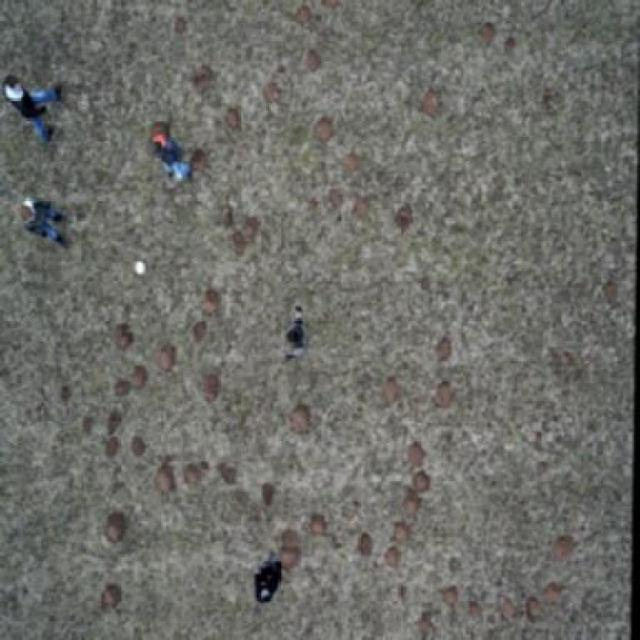Person: (0, 69, 65, 145), (6, 192, 82, 252), (140, 118, 198, 193), (276, 304, 324, 364), (244, 548, 285, 606)
